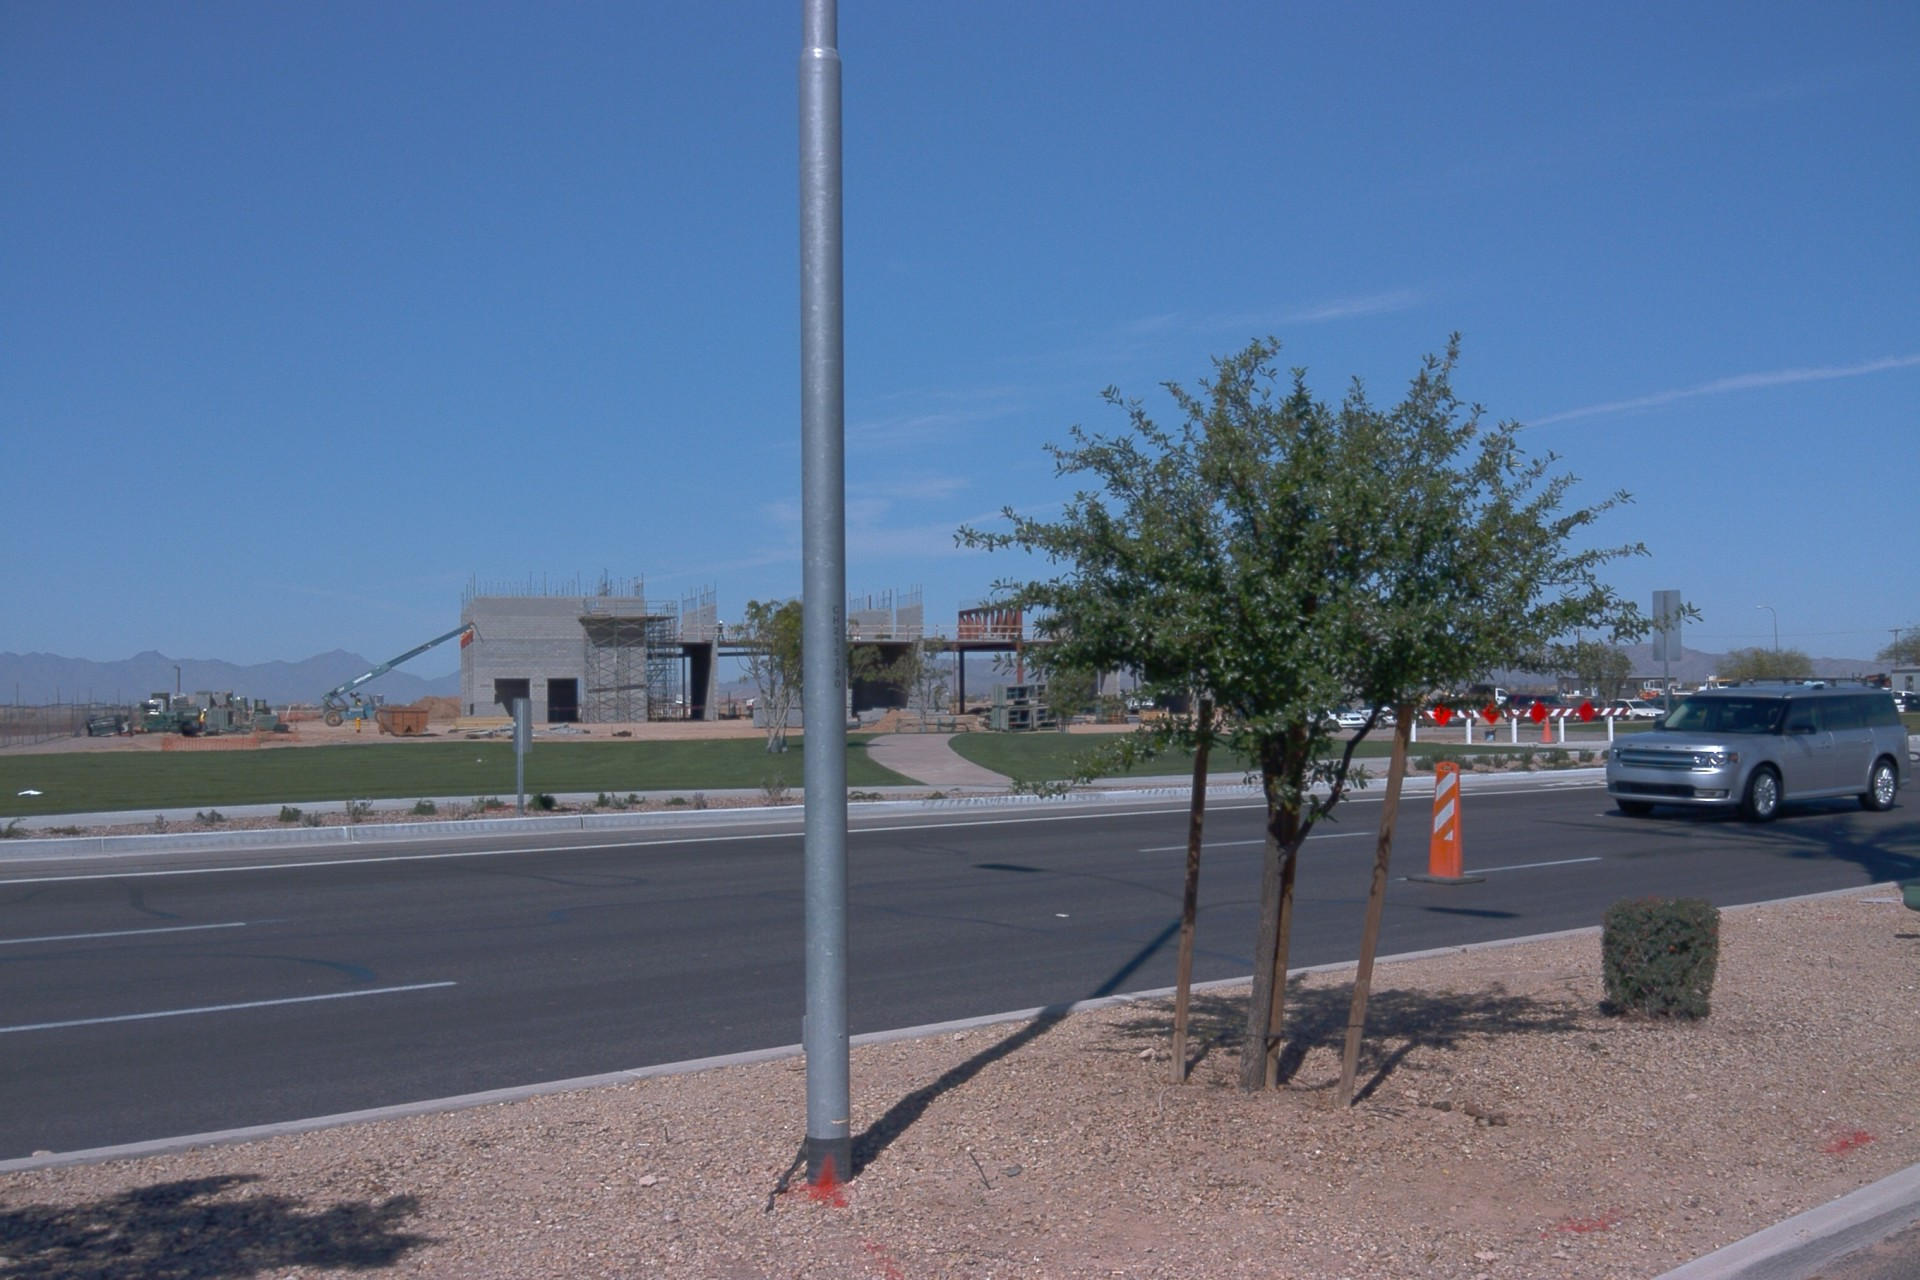TYPE_PEDESTRIAN: (196, 708, 207, 726)
TYPE_VEHICLE: (1595, 684, 1913, 823), (319, 625, 485, 732), (1235, 693, 1296, 735), (1502, 691, 1567, 724), (1310, 702, 1370, 733), (1433, 688, 1507, 709), (1354, 700, 1402, 732), (1114, 682, 1157, 715), (1608, 696, 1668, 719), (1668, 682, 1735, 702), (1641, 695, 1685, 714), (1428, 697, 1465, 718), (1894, 690, 1919, 707), (1904, 688, 1920, 709), (1804, 684, 1824, 688)
